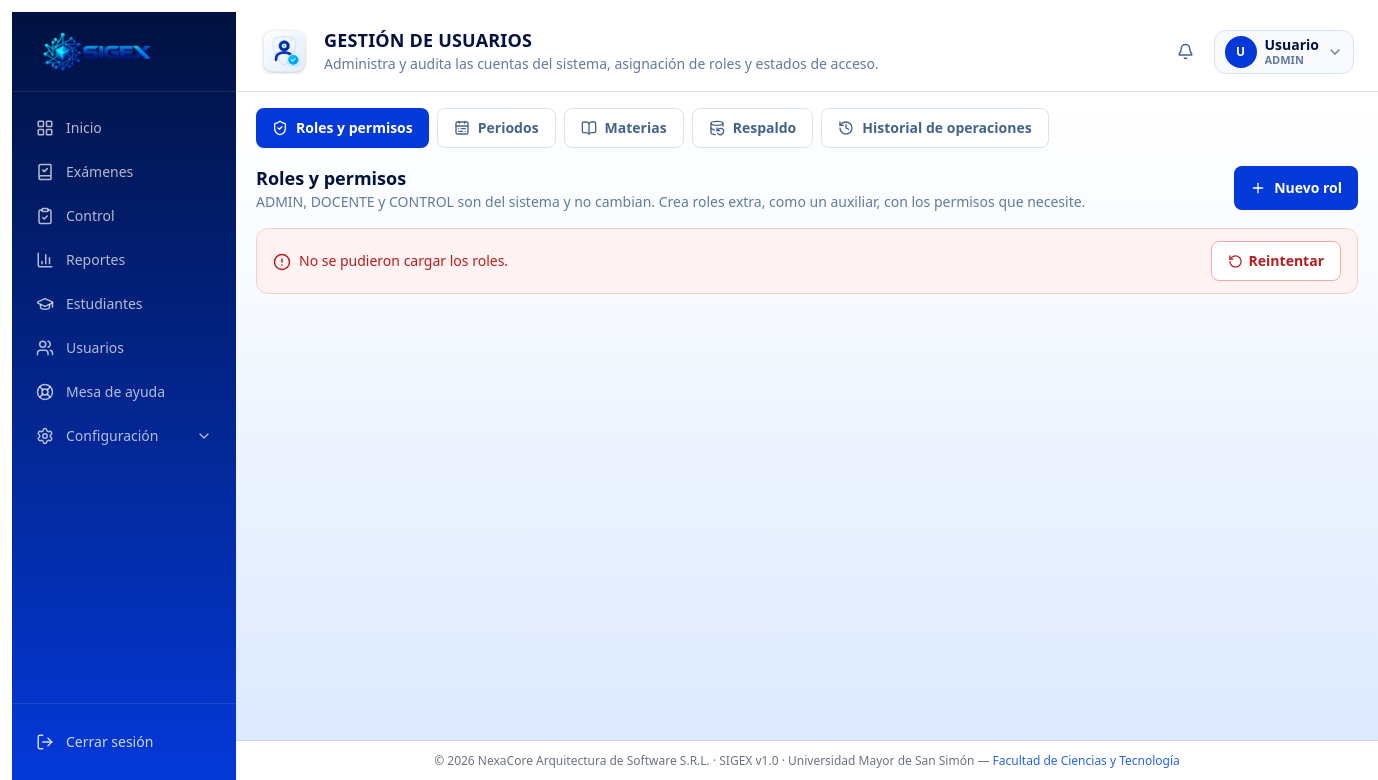
permisos en el frontend › si no se pueden cargar los roles, se puede reintentar
Click the button "Reintentar" at point(1276, 261), box [1211,241,1341,281]
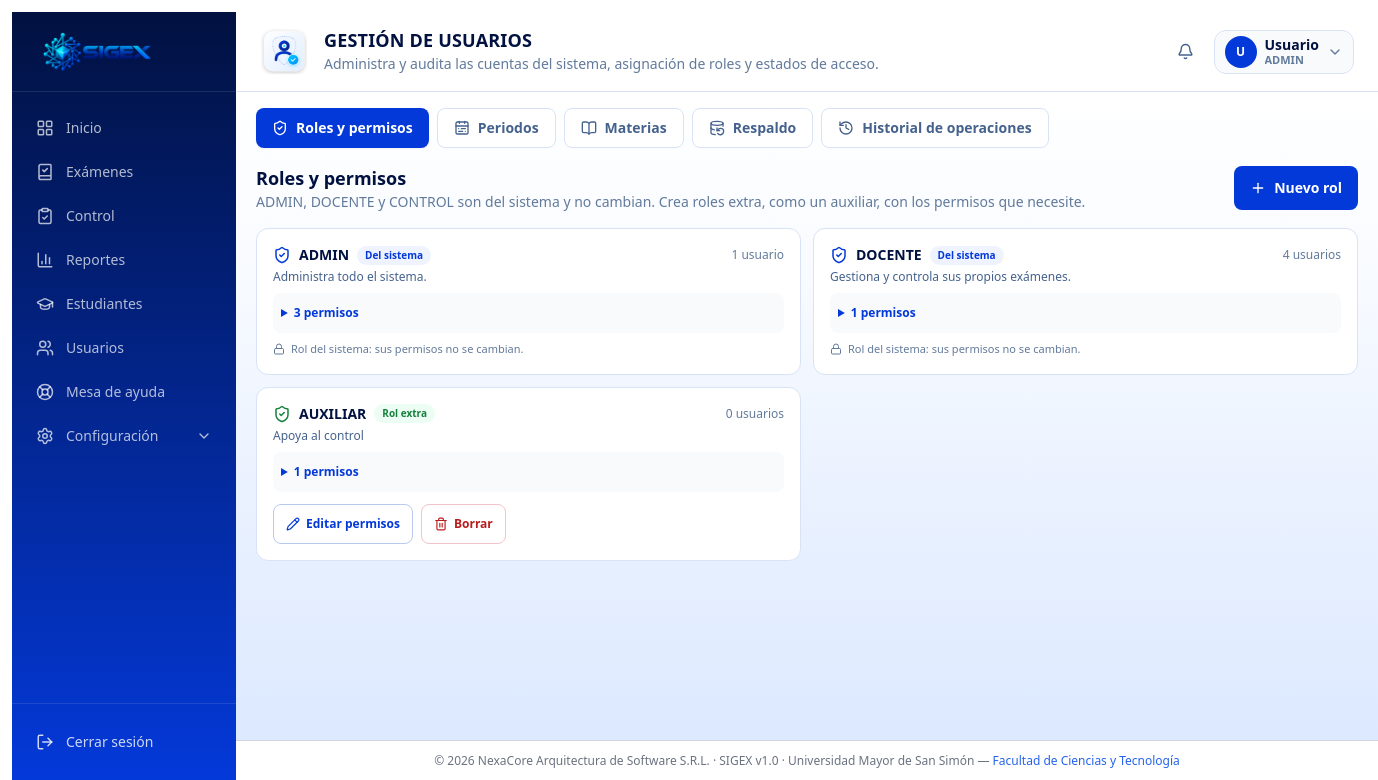
Result: the heading "AUXILIAR" is shown at [299,404,366,424]
